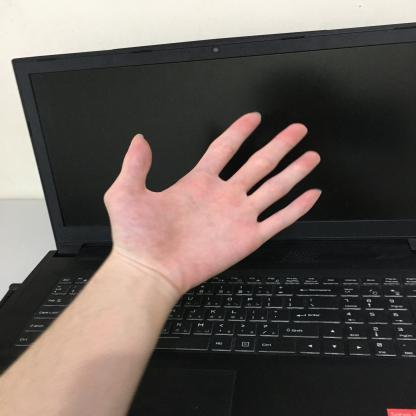bare_hand: (96, 104, 332, 298)
